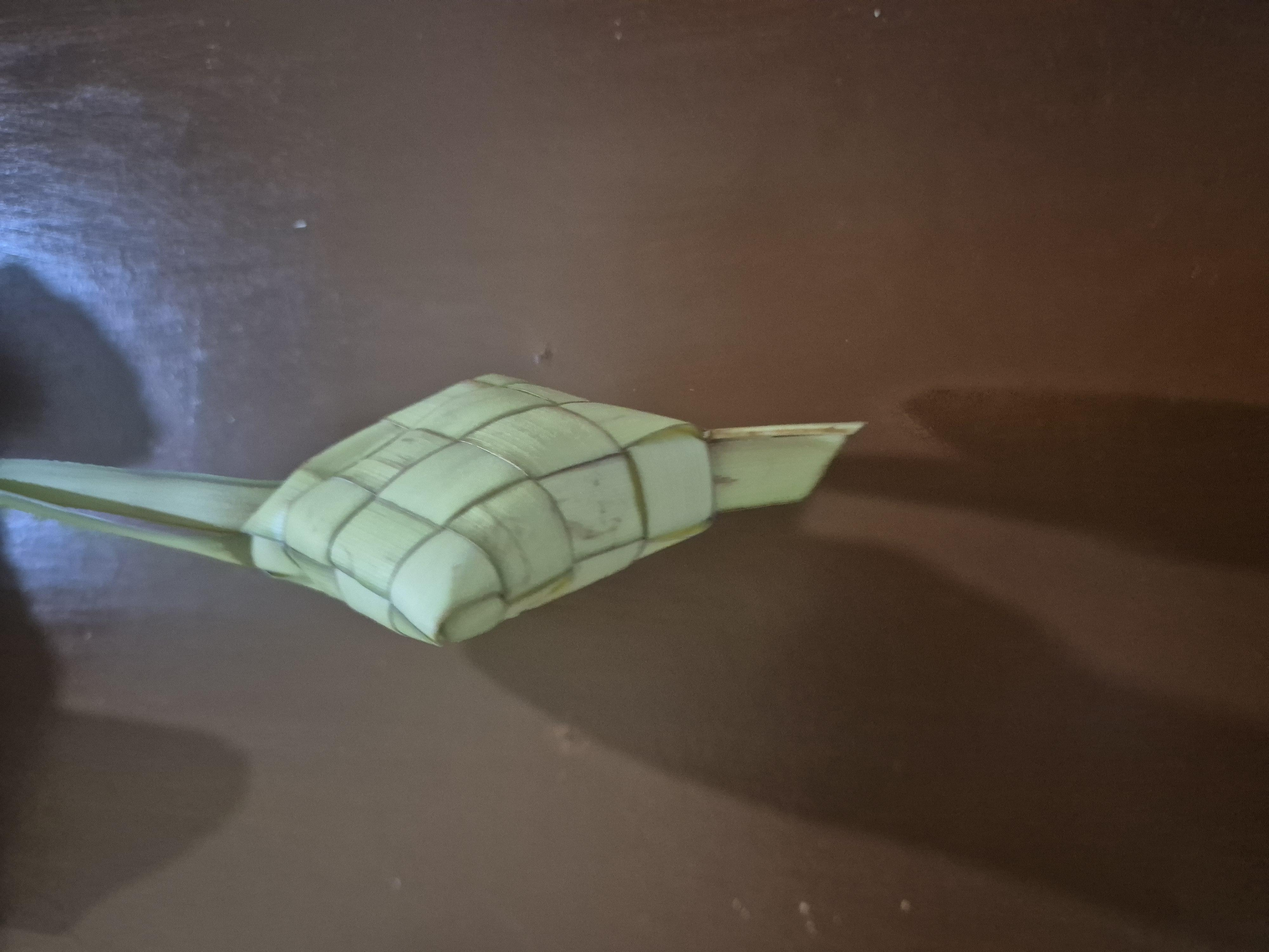Tipat Nasi: (410, 182, 769, 536)
